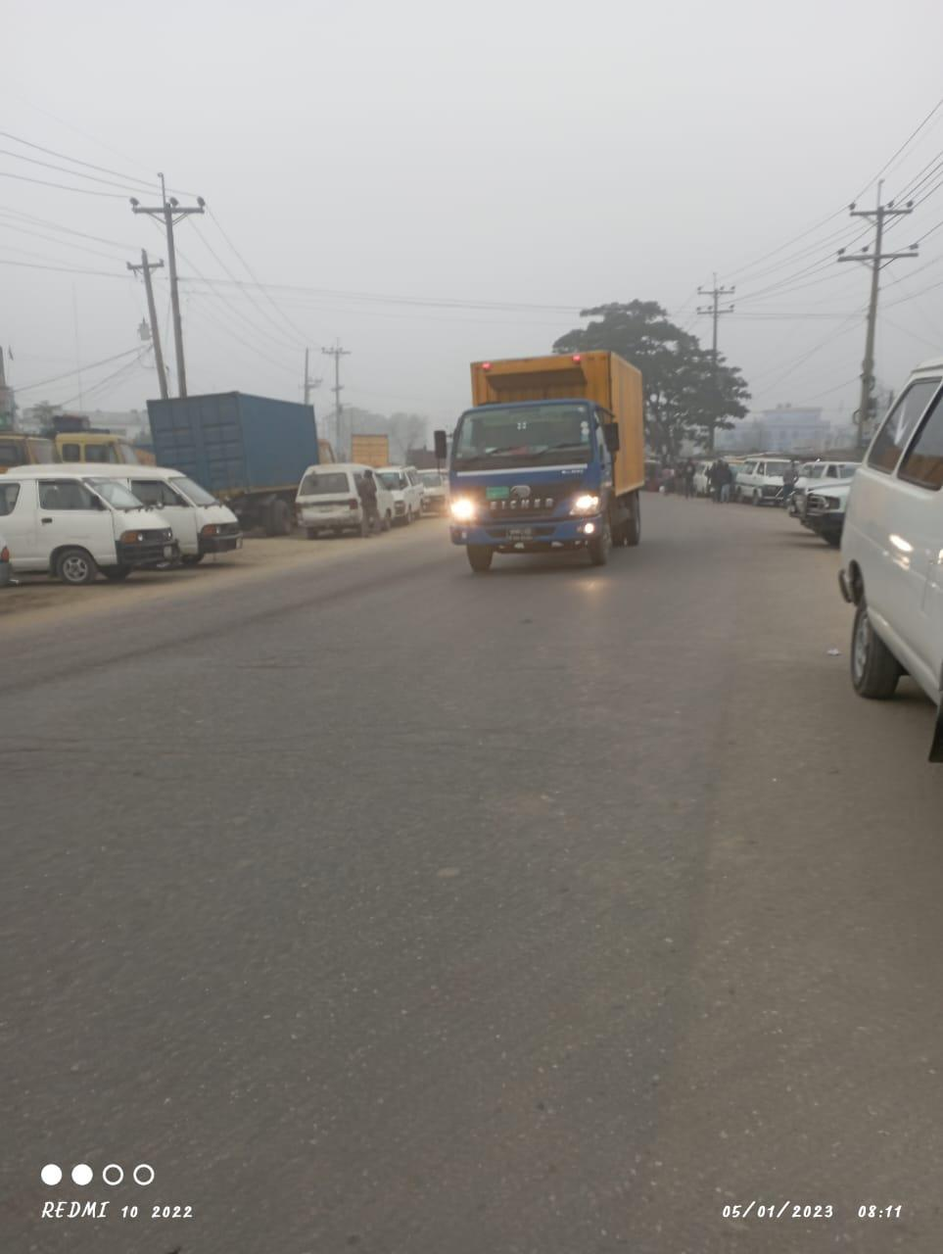Car: (63, 442, 263, 569), (2, 458, 180, 583), (292, 448, 394, 542)
Truck: (429, 350, 658, 575), (145, 387, 331, 525)
